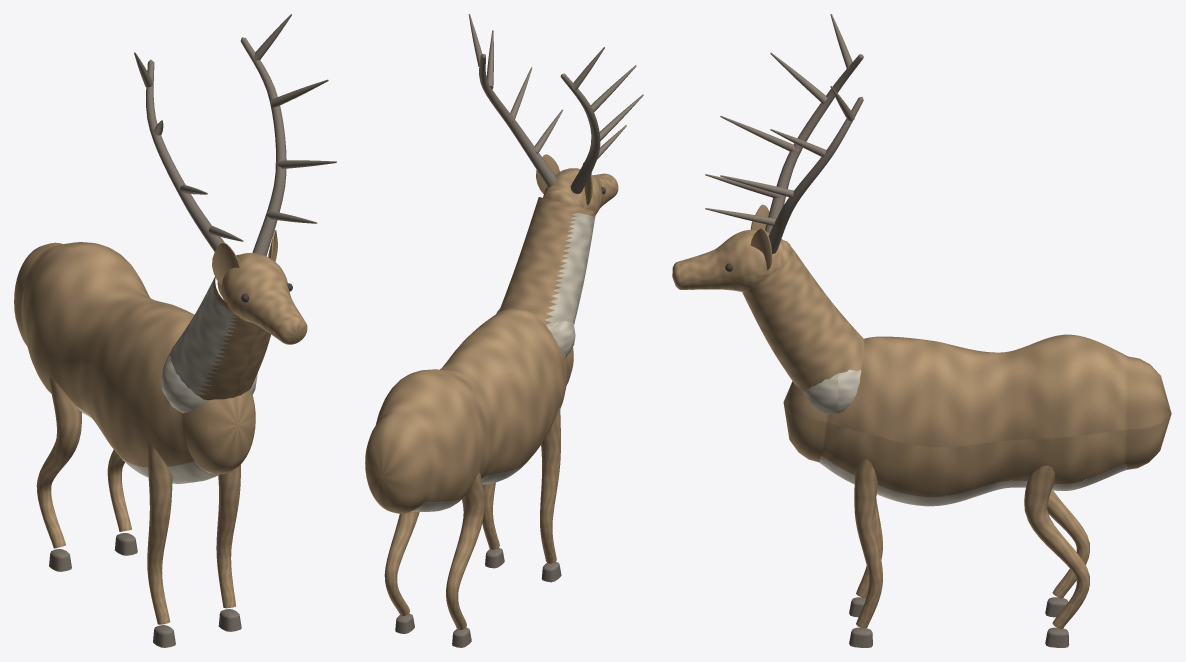
File: exotic-wildlife-hd-red-deer-stag-82f8d92a.glb
3 renders of one model, left to right at view 1: azimuth 30°, elevation 25°; view 2: azimuth 150°, elevation 25°; view 3: azimuth 270°, elevation 25°, orthographic. The views are drawn at different scales.
Parts seen in each view (by area): view 1: red-deer-stag; view 2: red-deer-stag; view 3: red-deer-stag.
Boxes of the visible parts, x1,y1,x2,y2 form: red-deer-stag: (14,14,336,647); red-deer-stag: (365,14,643,647); red-deer-stag: (672,14,1171,647).
Bounding box in the file's own units: 0.7255 × 2.54 × 1.99.
Materials: 6 (2 with a texture image).
